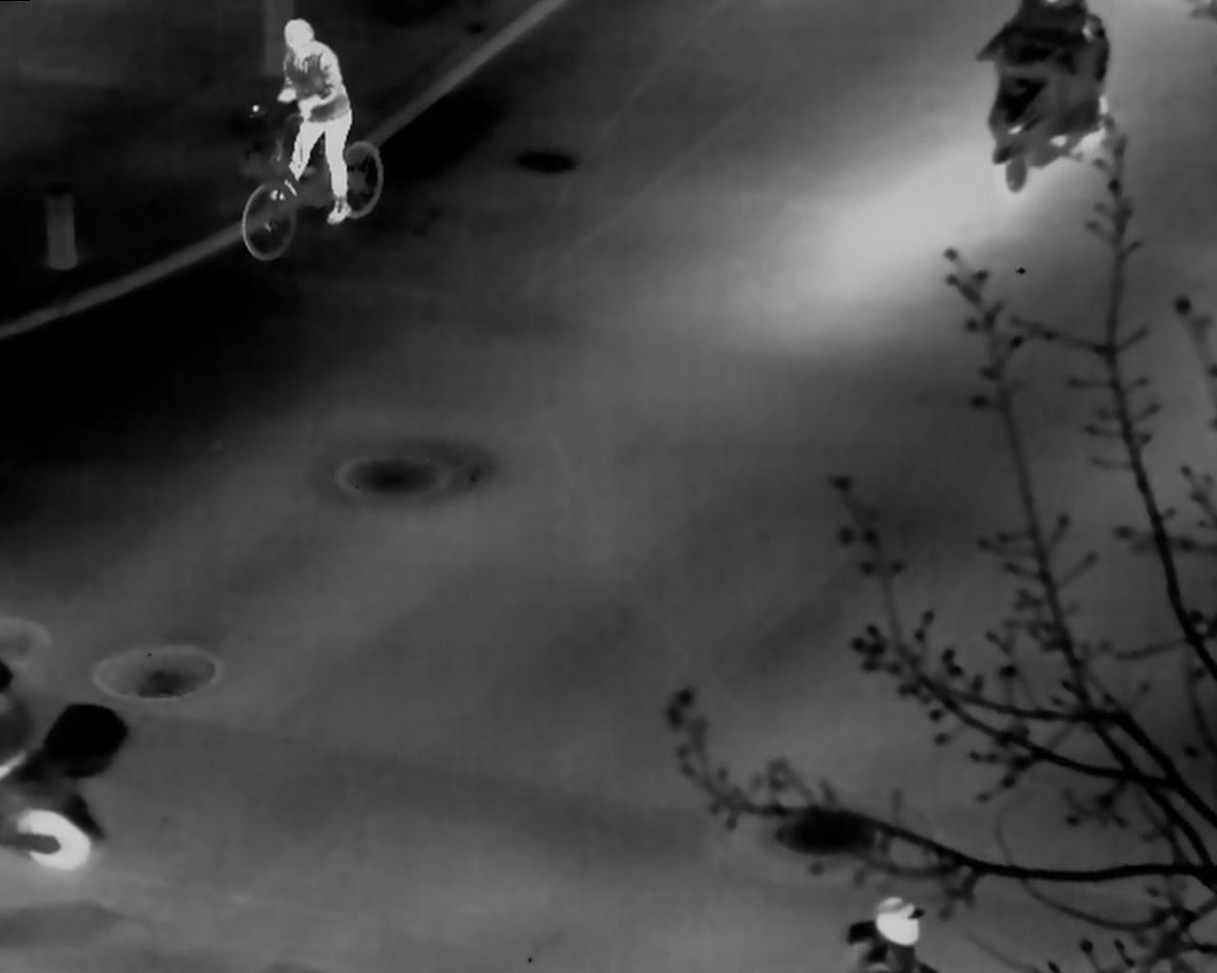person: (260, 19, 360, 221), (870, 897, 930, 966)
